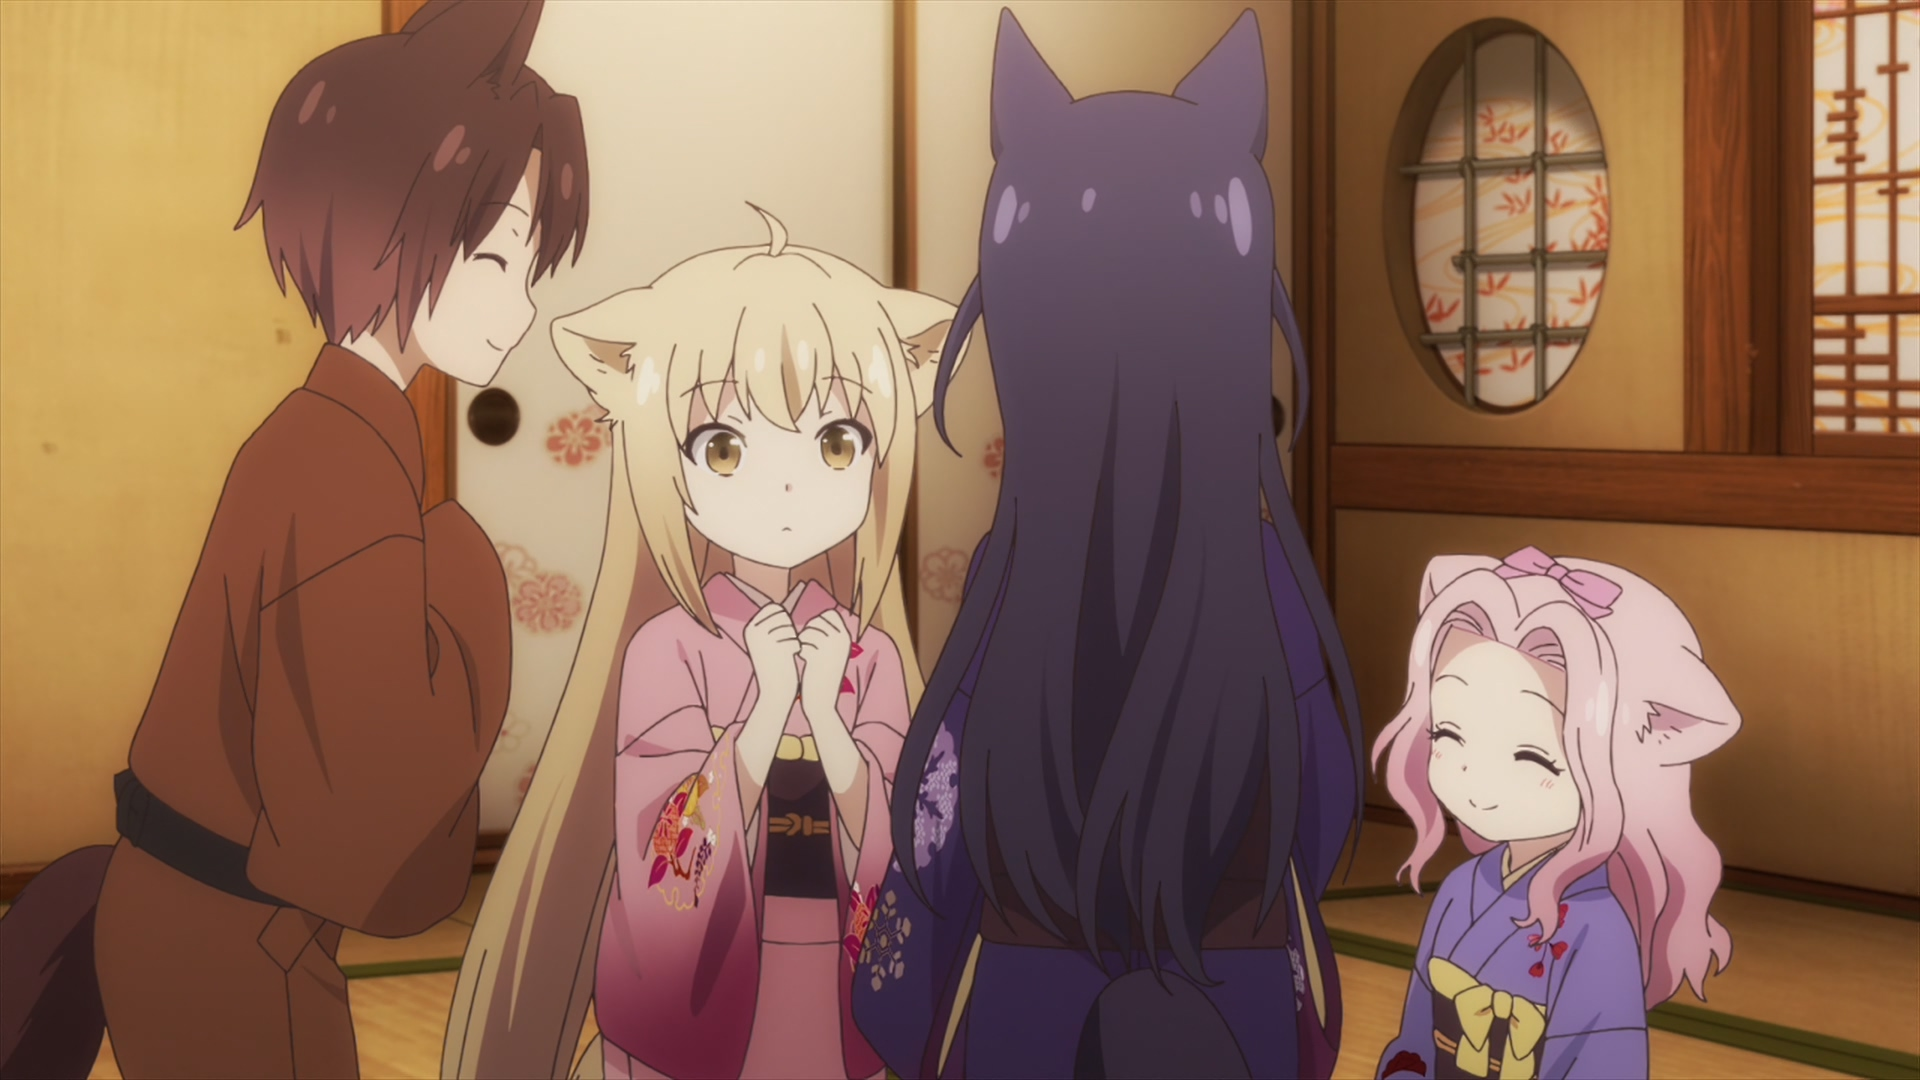枣: (1, 1, 589, 1080)
柚: (442, 204, 973, 1080)
皋: (852, 5, 1367, 1080)
莲: (1371, 549, 1743, 1080)
